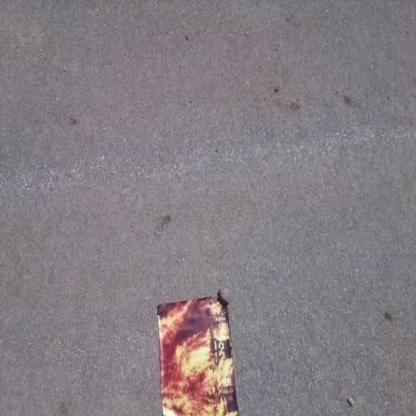fire-poster: (155, 287, 241, 415)
